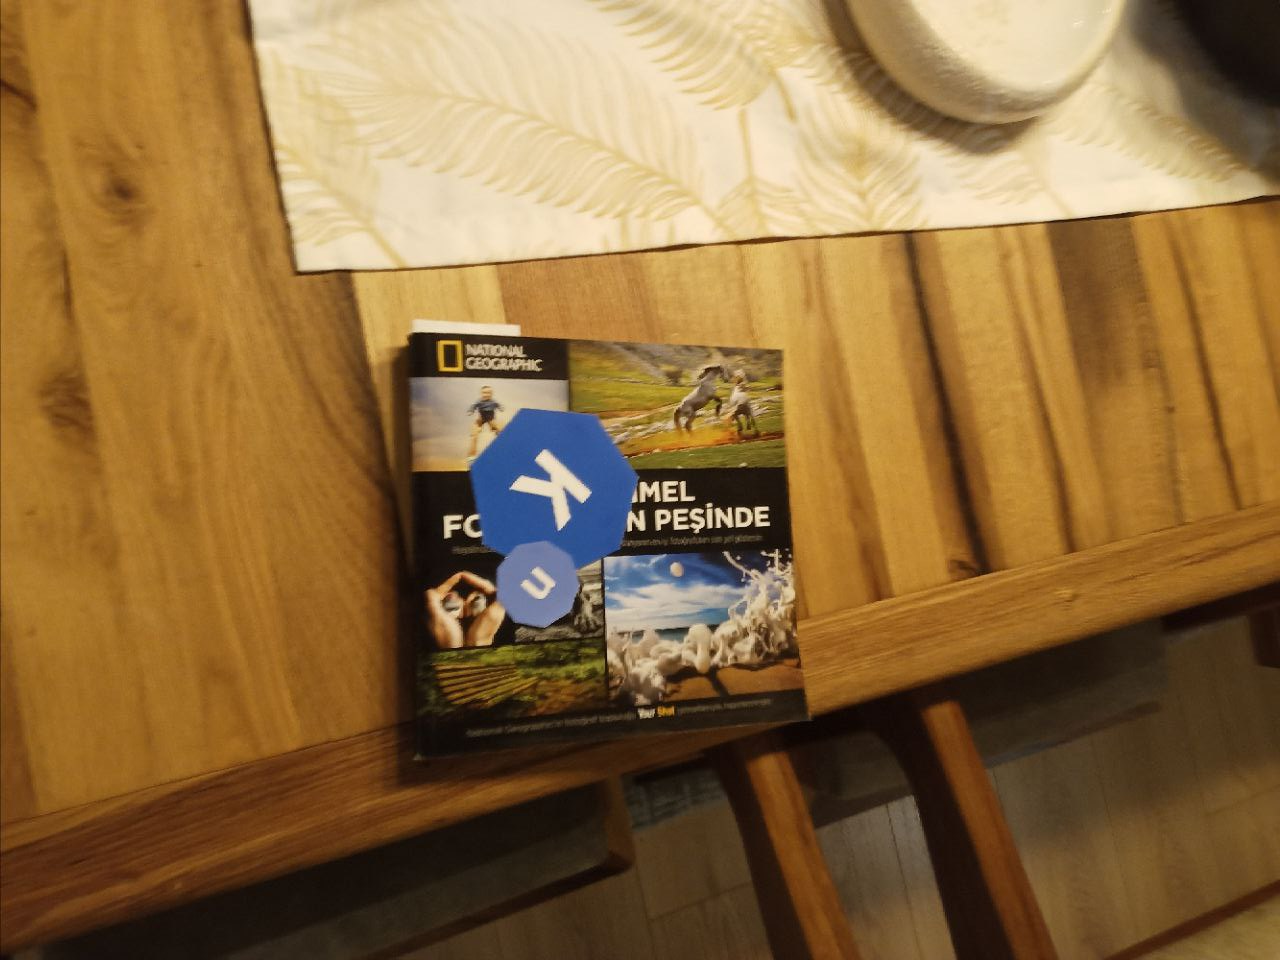knative: (466, 406, 641, 631)
